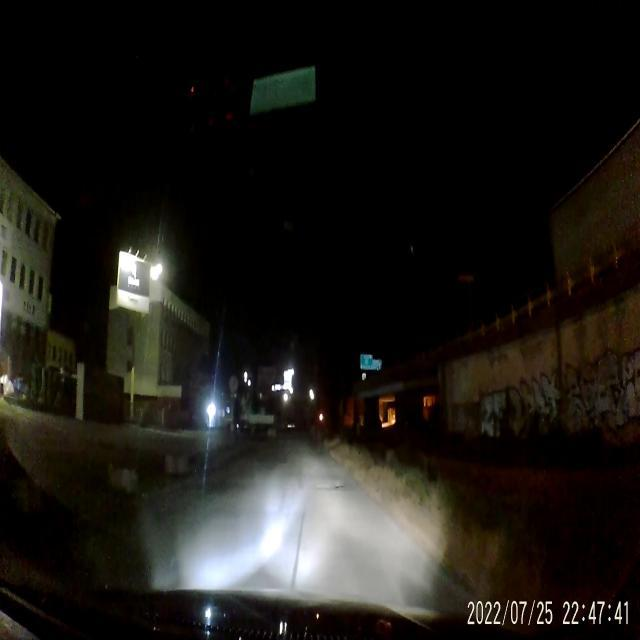Pothole: (331, 478, 354, 494)
